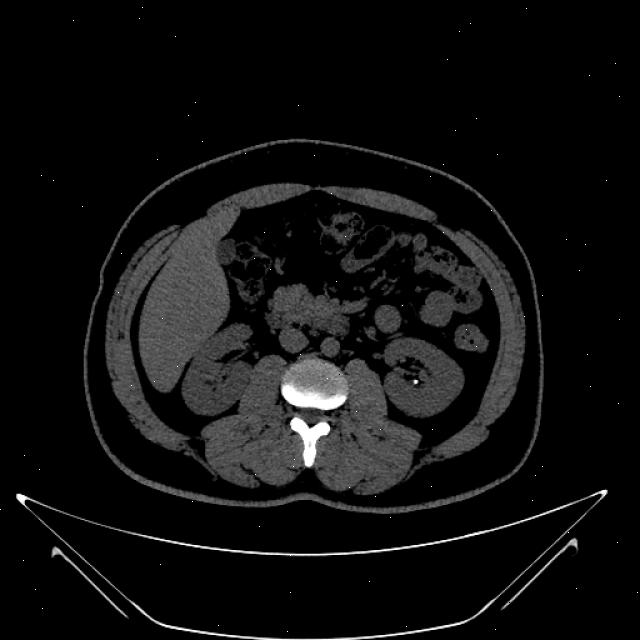kidneystone: (412, 372, 419, 384)
